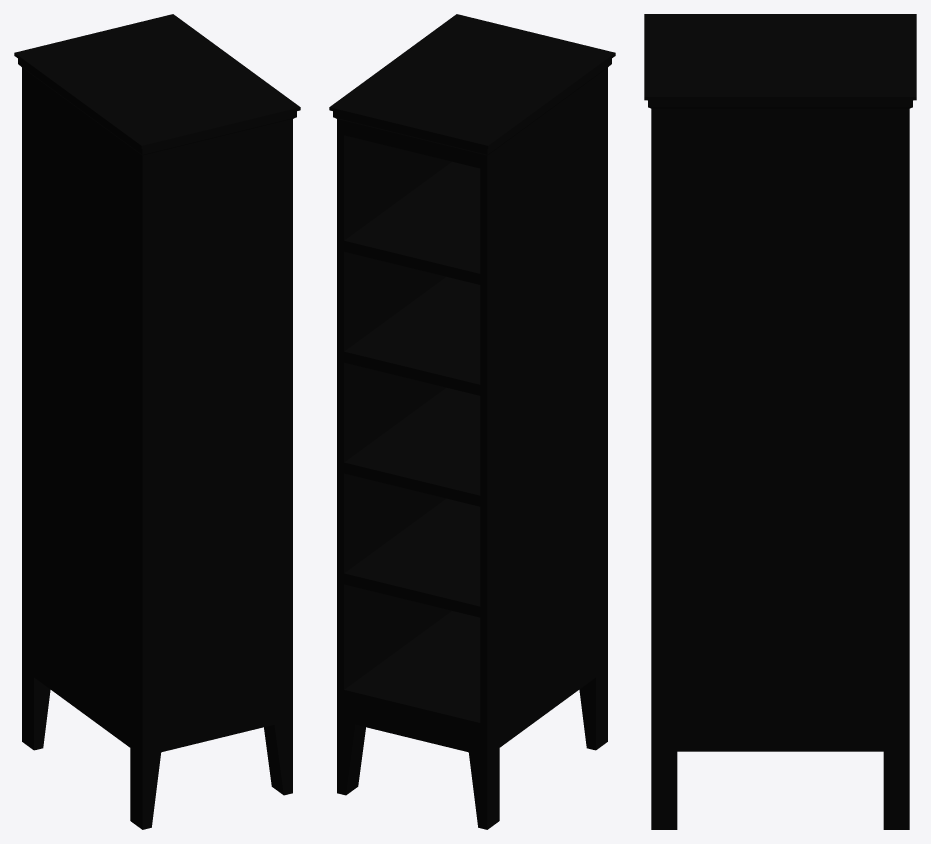
File: Mueble9.fbx
3 renders of one model, left to right at view 1: azimuth 30°, elevation 25°; view 2: azimuth 150°, elevation 25°; view 3: azimuth 270°, elevation 25°, orthographic. The views are drawn at different scales.
Visible parts, largest first — view 1: pCube8; view 2: pCube8; view 3: pCube8.
Part boxes in pixels (left/top/right/bottom): pCube8: left=14, top=14, right=300, bottom=829; pCube8: left=329, top=14, right=615, bottom=829; pCube8: left=644, top=14, right=916, bottom=829.
Bounding box in the file's own units: 3.76 × 15.57 × 5.23.
